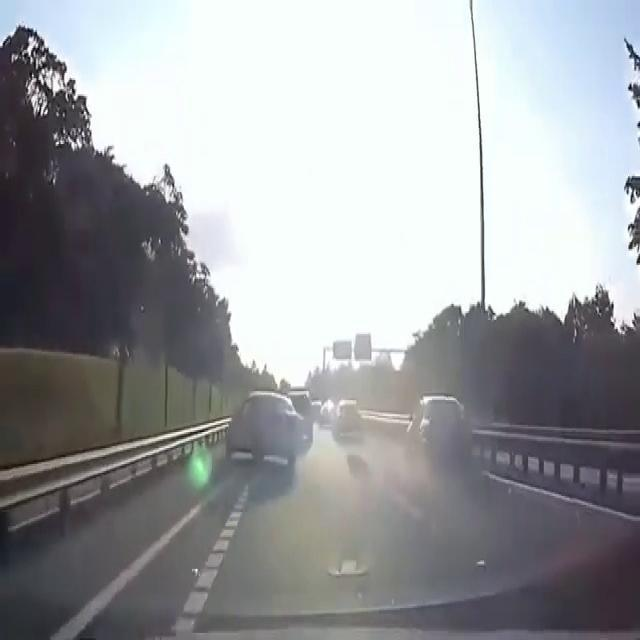moderate: (218, 376, 308, 474)
